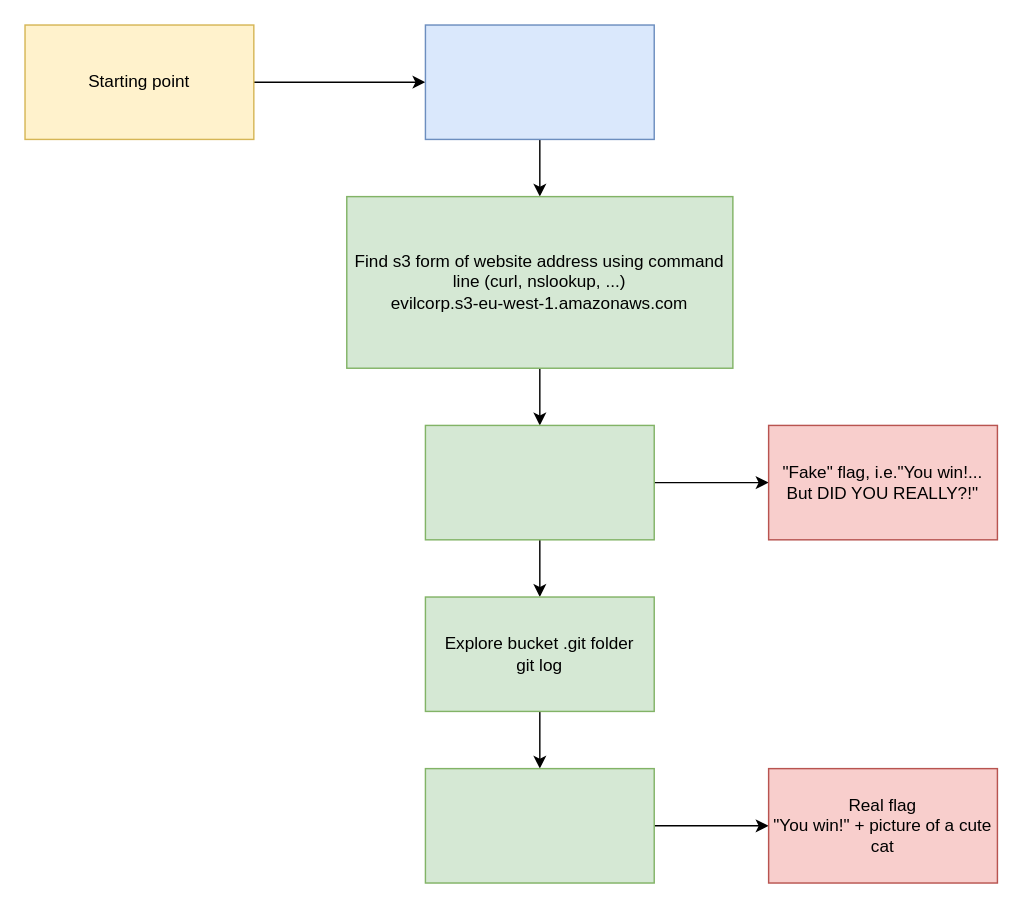
Some shapes in this 1022 by 908 pixel diagram are drawn without their labels. Here are the shapes that lost their labels. From the top down, the centre of each, then its label:
the point at 539,81: Target's website, for instance: evilcorp.com
the point at 539,482: List and download contents of bucket s3 ls, s3 sync
the point at 539,825: Restore previous version git checkout <version>
